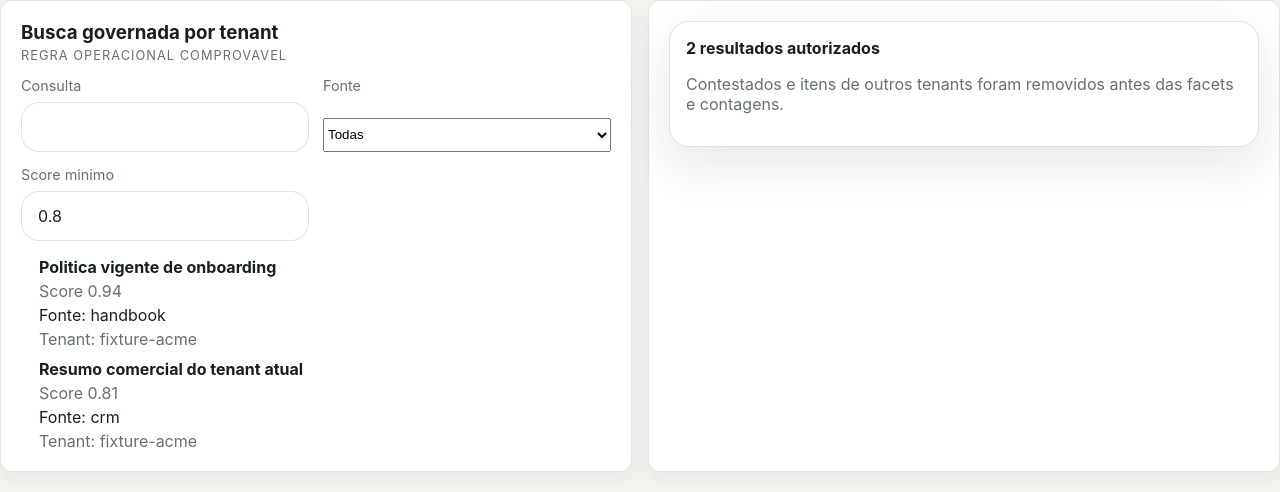
Test: Sprint2DomainExperience › searches only active tenant knowledge with source and score evidence
Expected: the text "Politica vigente de onboarding" is shown, x1=39 y1=257 x2=276 y2=277
Expected: the text "Resumo comercial do tenant atual" is shown, x1=39 y1=359 x2=303 y2=379
Type "contestada" into the field named "Consulta governada" at [165, 127], box x1=21 y1=102 x2=309 y2=152
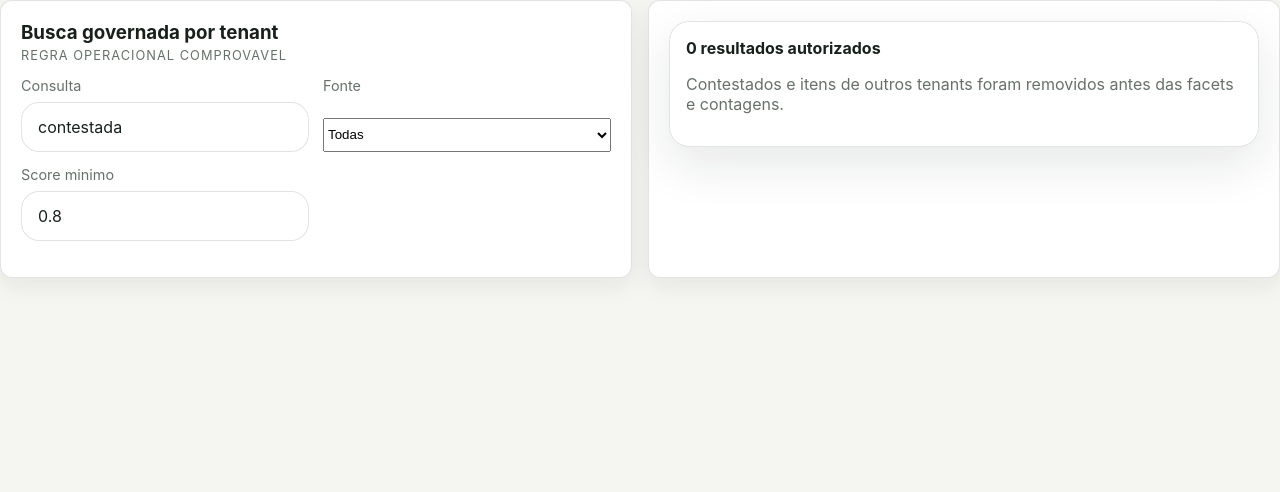
Now the message shows "0 resultados autorizados", box x1=669 y1=21 x2=1259 y2=147
